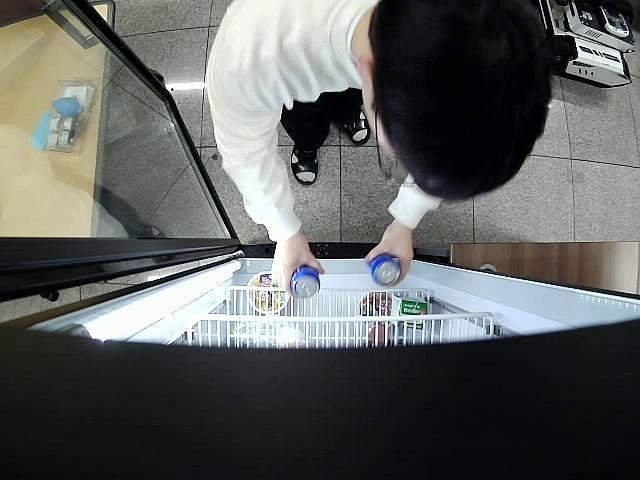13_pocariSweat: (368, 249, 402, 286), (290, 265, 320, 300)
